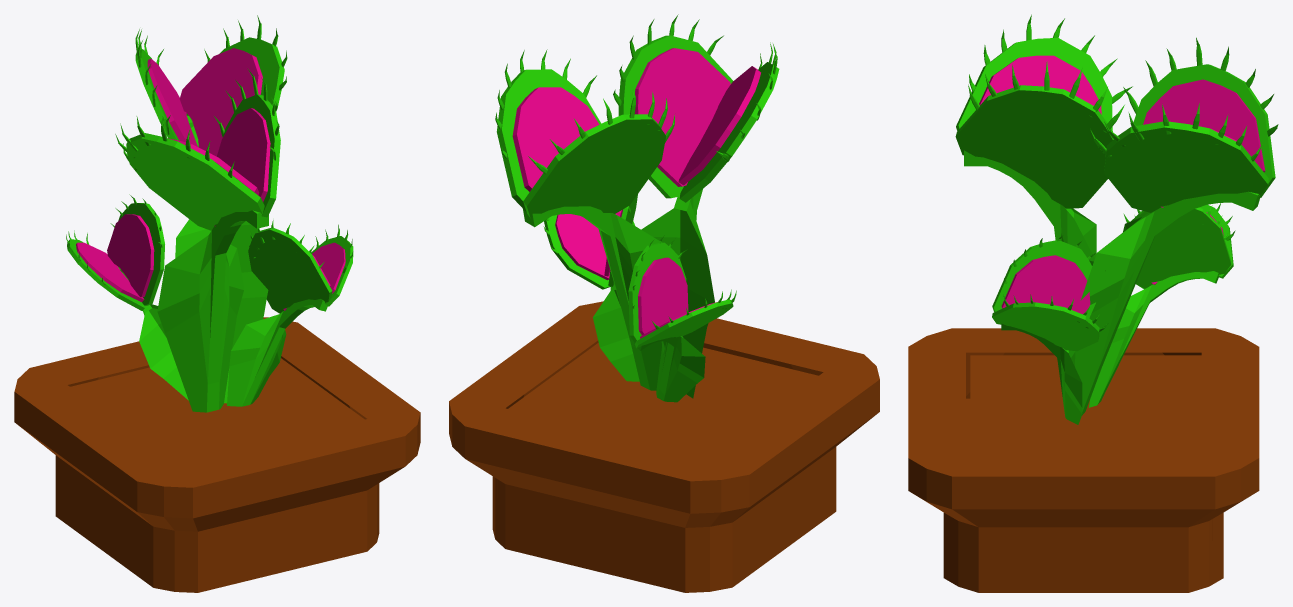
Rendered from FlyTrap.fbx.
3 renders of one model, left to right at view 1: azimuth 30°, elevation 25°; view 2: azimuth 150°, elevation 25°; view 3: azimuth 270°, elevation 25°, orthographic. The views are drawn at different scales.
Visible parts, largest first — view 1: Cube.084, Cube.002, Cube.001, Cube.064, Cube.040, Cube.039, Cube.020, Cube.081, Cube.061, Cube.044, Cube, Cube.082 (+7 smaller); view 2: Cube.084, Cube.083, Cube.020, Cube.064, Cube.081, Cube.002, Cube.082, Cube.061, Cube.019, Cube, Cube.044, Cube.001 (+5 smaller); view 3: Cube.084, Cube, Cube.082, Cube.081, Cube.043, Cube.063, Cube.022, Cube.001, Cube.041, Cube.083, Cube.002, Cube.019 (+4 smaller).
Part boxes in pixels (x1,y1,x2,y2): Cube.084: [14, 317, 420, 592]; Cube.002: [157, 210, 268, 412]; Cube.001: [126, 133, 264, 230]; Cube.064: [179, 48, 262, 156]; Cube.040: [248, 228, 332, 313]; Cube.039: [227, 299, 327, 406]; Cube.020: [214, 108, 270, 226]; Cube.081: [175, 115, 268, 403]; Cube.061: [107, 214, 154, 297]; Cube.044: [118, 267, 188, 400]; Cube: [223, 94, 280, 217]; Cube.082: [186, 37, 284, 119]; Cube.084: [449, 301, 879, 592]; Cube.083: [523, 114, 666, 218]; Cube.020: [634, 48, 730, 186]; Cube.064: [512, 87, 599, 191]; Cube.081: [523, 206, 661, 390]; Cube.002: [641, 189, 714, 398]; Cube.082: [496, 69, 601, 212]; Cube.061: [638, 257, 688, 334]; Cube.019: [678, 66, 760, 185]; Cube: [618, 35, 733, 198]; Cube.044: [634, 336, 705, 402]; Cube.001: [679, 62, 779, 202]; Cube.084: [908, 328, 1259, 592]; Cube: [955, 85, 1113, 208]; Cube.082: [1104, 121, 1268, 212]; Cube.081: [1075, 191, 1259, 415]; Cube.043: [1131, 207, 1231, 288]; Cube.063: [1143, 79, 1265, 207]; Cube.022: [1001, 255, 1090, 314]; Cube.001: [956, 38, 1112, 131]; Cube.041: [992, 302, 1099, 351]; Cube.083: [1133, 64, 1275, 197]; Cube.002: [964, 150, 1096, 265]; Cube.019: [979, 55, 1101, 114].
Size of the model in its own units: 470 by 720 by 496.
